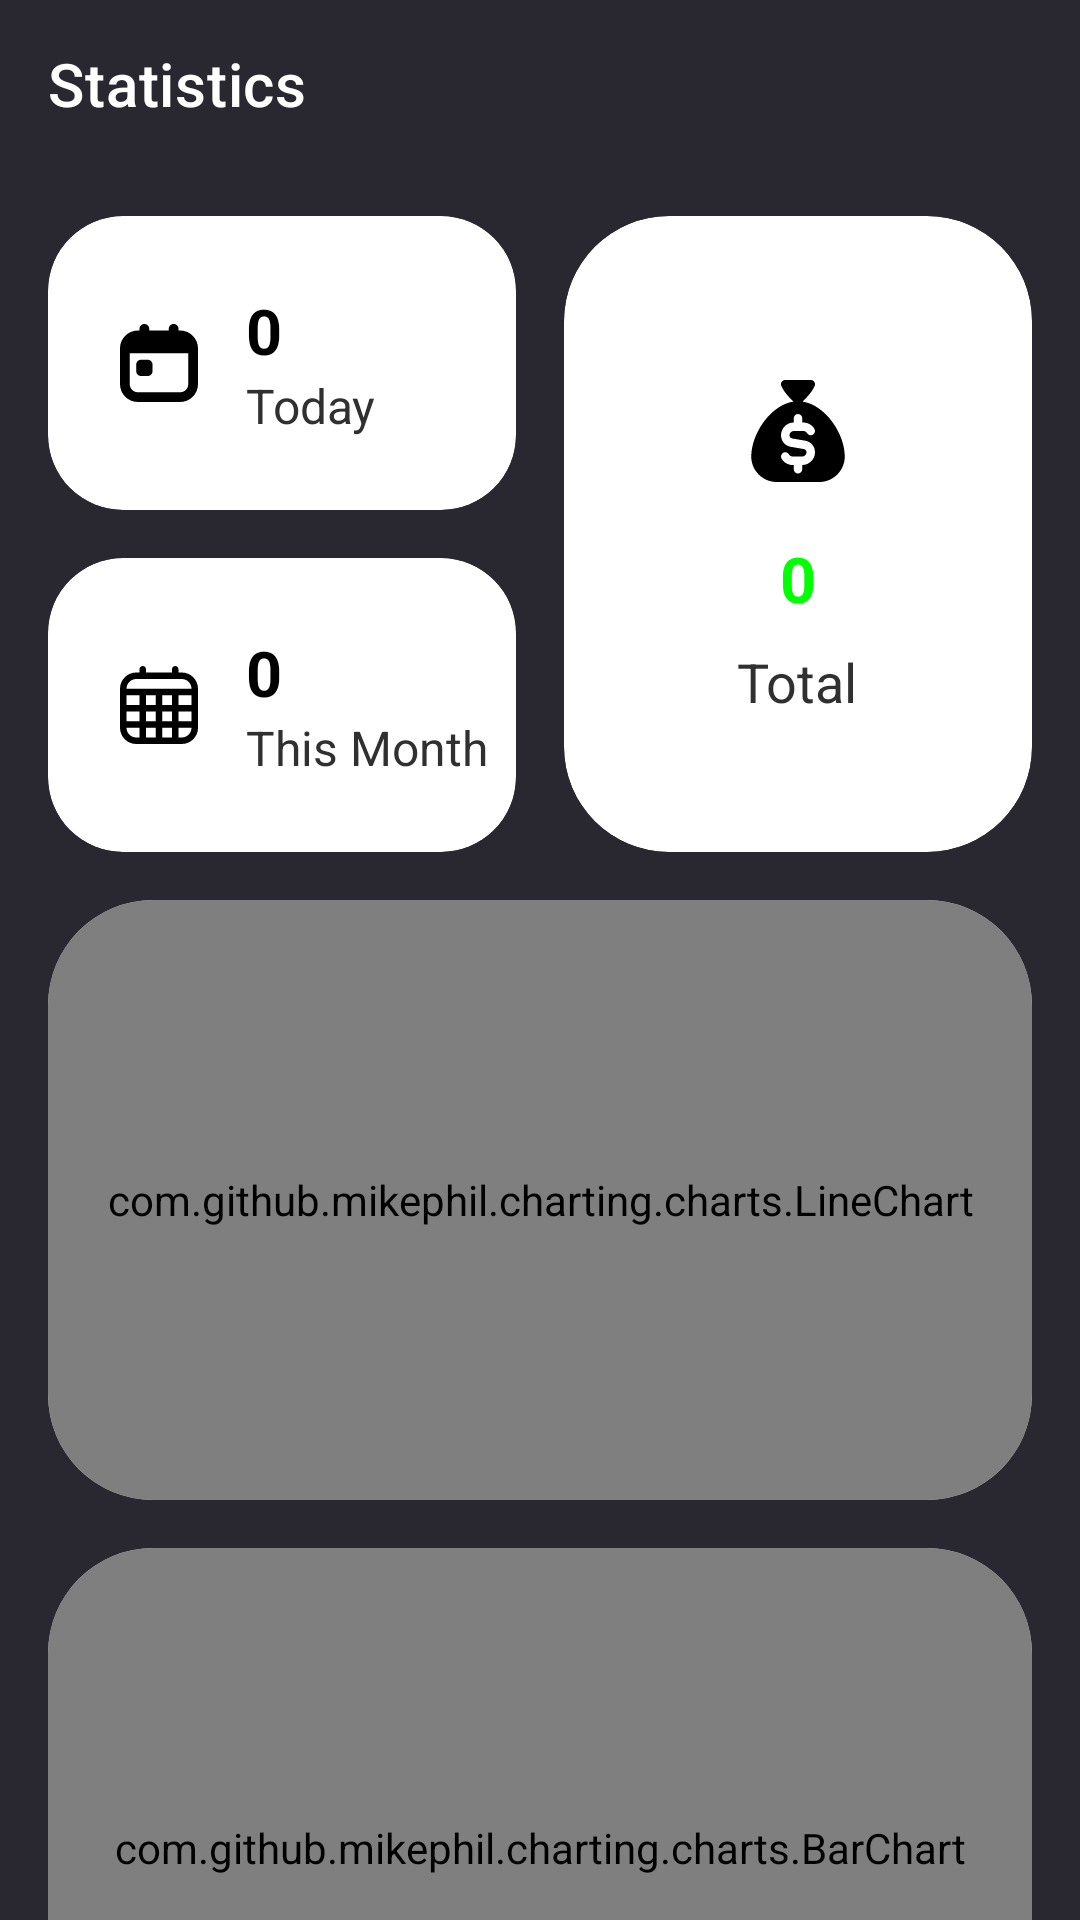

Icons on this 1080px x 1920px Android screen, each with its box as box=[x1, y1, x2, y2]:
day: box=[120, 324, 198, 402]
money: box=[751, 380, 845, 482]
months: box=[120, 666, 198, 744]
